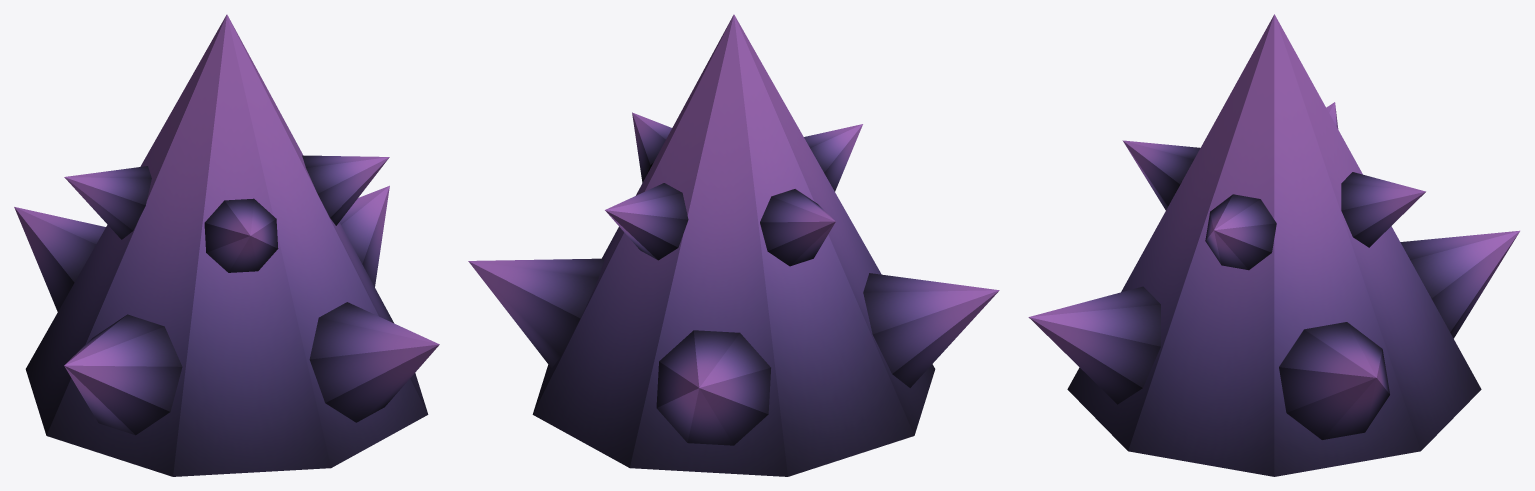
File: spikes.gltf
3 views of the same model, side by side, from view 1: azimuth 30°, elevation 25°; view 2: azimuth 150°, elevation 25°; view 3: azimuth 270°, elevation 25° (orthographic).
Visible parts, largest first — view 1: Cone, Cone.005, Cone.004, Cone.003, Cone.009, Cone.008, Cone.006, Cone.002; view 2: Cone, Cone.003, Cone.004, Cone.002, Cone.007, Cone.008, Cone.009, Cone.006; view 3: Cone, Cone.002, Cone.005, Cone.003, Cone.006, Cone.007, Cone.009.
Part boxes in pixels (x1=…): Cone: x1=25, y1=14, x2=428, y2=476; Cone.005: x1=309, y1=302, x2=439, y2=422; Cone.004: x1=64, y1=314, x2=182, y2=435; Cone.003: x1=14, y1=207, x2=105, y2=311; Cone.009: x1=204, y1=198, x2=278, y2=272; Cone.008: x1=64, y1=166, x2=151, y2=239; Cone.006: x1=302, y1=155, x2=389, y2=225; Cone.002: x1=339, y1=185, x2=389, y2=286; Cone: x1=532, y1=14, x2=935, y2=476; Cone.003: x1=656, y1=330, x2=770, y2=445; Cone.004: x1=863, y1=273, x2=999, y2=387; Cone.002: x1=468, y1=258, x2=604, y2=368; Cone.007: x1=605, y1=183, x2=688, y2=260; Cone.008: x1=760, y1=189, x2=835, y2=266; Cone.009: x1=804, y1=124, x2=862, y2=191; Cone.006: x1=632, y1=112, x2=671, y2=182; Cone: x1=1067, y1=14, x2=1481, y2=476; Cone.002: x1=1279, y1=322, x2=1389, y2=439; Cone.005: x1=1028, y1=286, x2=1160, y2=404; Cone.003: x1=1400, y1=230, x2=1519, y2=338; Cone.006: x1=1205, y1=194, x2=1276, y2=270; Cone.007: x1=1341, y1=172, x2=1425, y2=247; Cone.009: x1=1122, y1=140, x2=1200, y2=210.
Size of the model in its own units: 2.38 by 2 by 2.38.
Materials: 1 (1 with a texture image).
